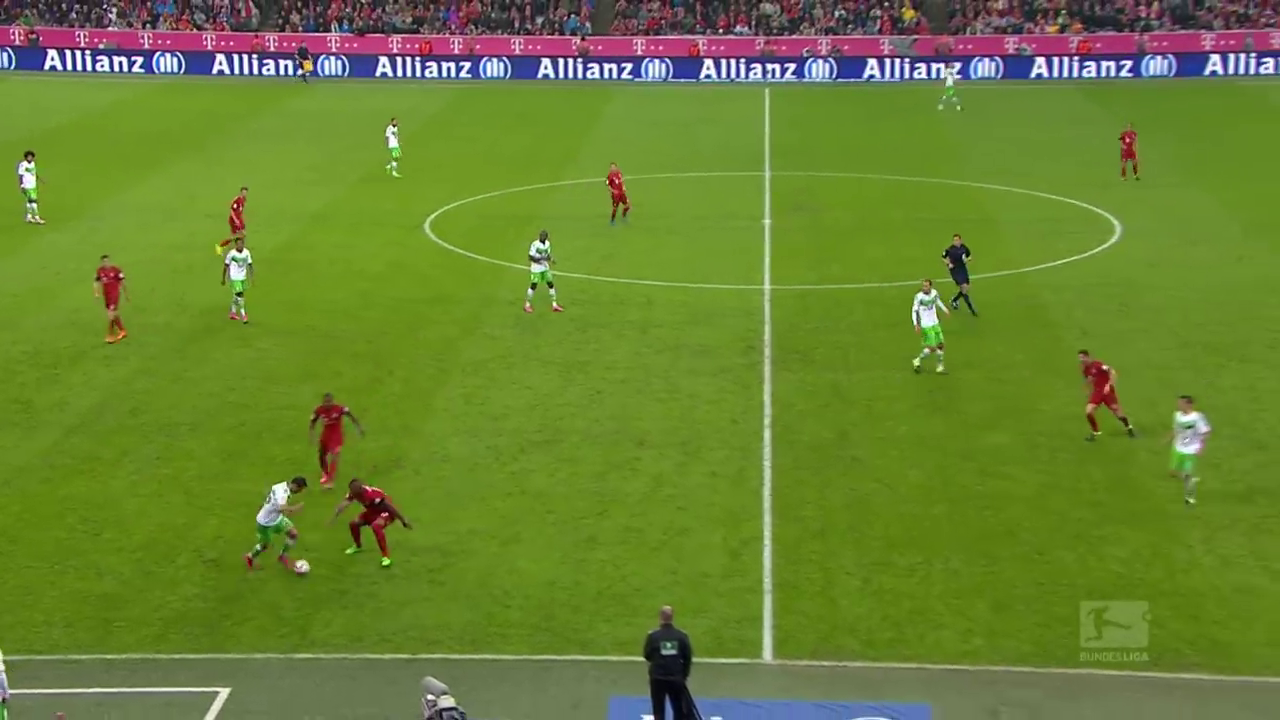ball: (291, 556, 309, 575)
player: (326, 478, 411, 567), (1159, 395, 1212, 506), (308, 392, 366, 488), (1075, 349, 1132, 442), (245, 473, 299, 570), (215, 238, 259, 324), (908, 278, 947, 373), (91, 253, 131, 344), (940, 232, 979, 317), (525, 228, 561, 314), (219, 186, 251, 256), (15, 149, 45, 223), (604, 160, 630, 224), (1117, 122, 1141, 180), (935, 64, 962, 111), (385, 115, 404, 177)
